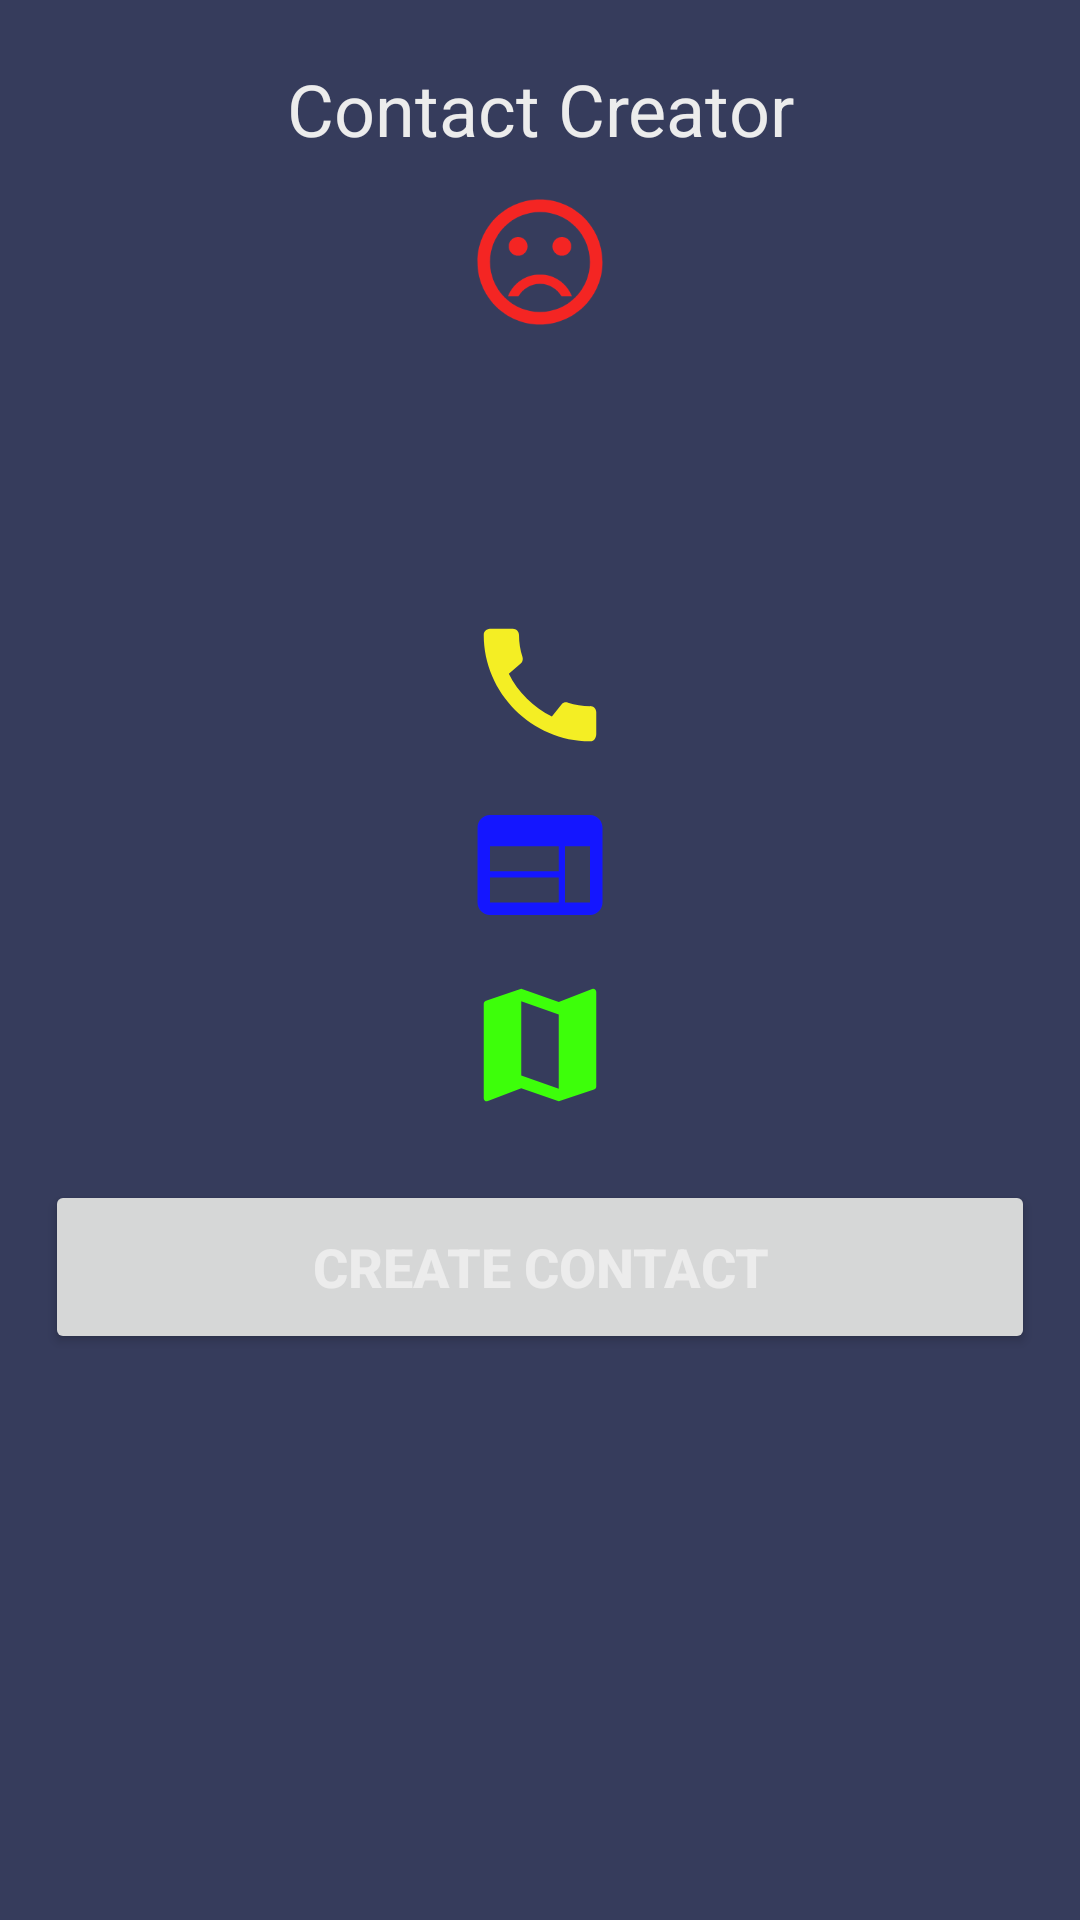

Locate icon controls on the screen. Image size 1080*1920, boxes as (x1, y1, x2, y2).
call: (483, 628, 597, 742)
map: (483, 988, 597, 1102)
sad: (477, 199, 603, 325)
web: (477, 815, 603, 915)
